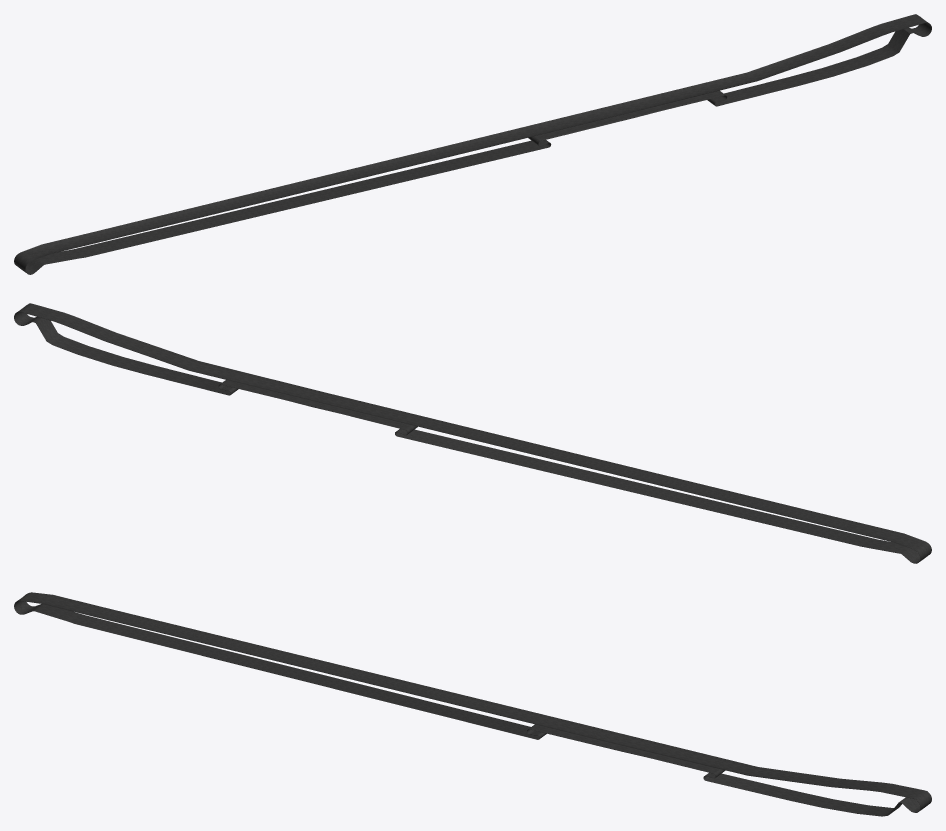
The model's file is HJMK_TC_DH_PiDaiShuSongJi_v01.FBX.
3 views of the same model, one above another, from view 1: azimuth 30°, elevation 25°; view 2: azimuth 150°, elevation 25°; view 3: azimuth 330°, elevation 25° (orthographic).
Parts seen in each view (by area): view 1: ZJ_JW_15_01; view 2: ZJ_JW_15_01; view 3: ZJ_JW_15_01.
Part boxes in pixels (box(x1,y1,x2,y2)): ZJ_JW_15_01: box(14, 14, 931, 274); ZJ_JW_15_01: box(14, 303, 931, 563); ZJ_JW_15_01: box(14, 592, 931, 816).
Size of the model in its own units: 28.16 by 1 by 0.6195.
1 material, 1 textured.
